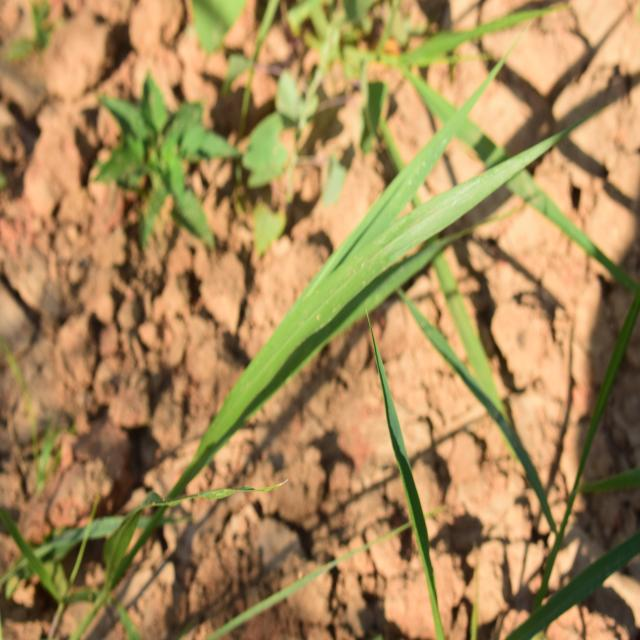green_foxtail: (240, 129, 570, 549)
